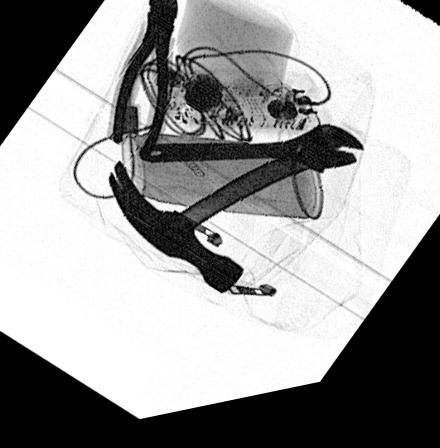Hammer: (104, 148, 344, 303)
Pliers: (107, 0, 181, 171)
Wrench: (135, 139, 367, 189)
